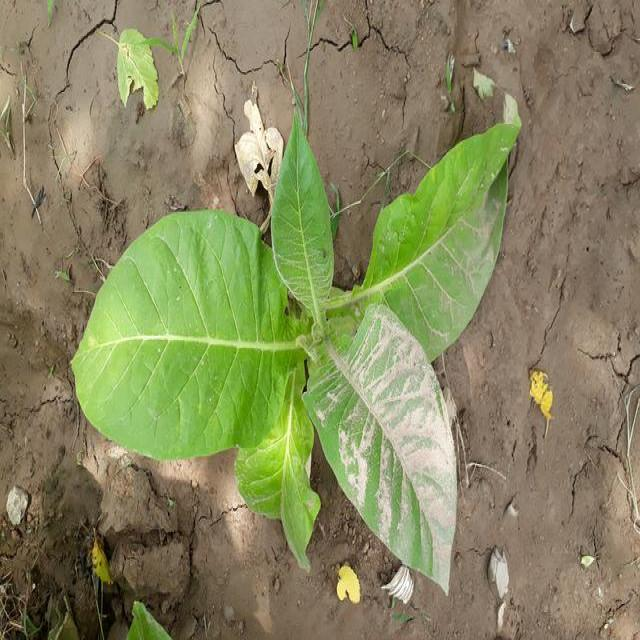crop: (90, 98, 508, 594)
